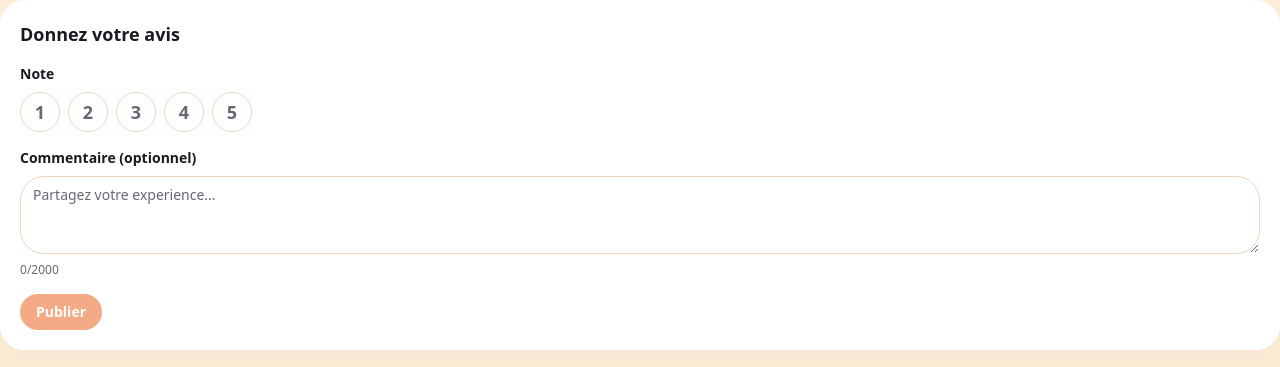
ReviewForm › create mode › shows loading state during submission
This screenshot has width=1280, height=367.
Click the button named "4 etoiles" at [184, 112], box [164,92,204,132]
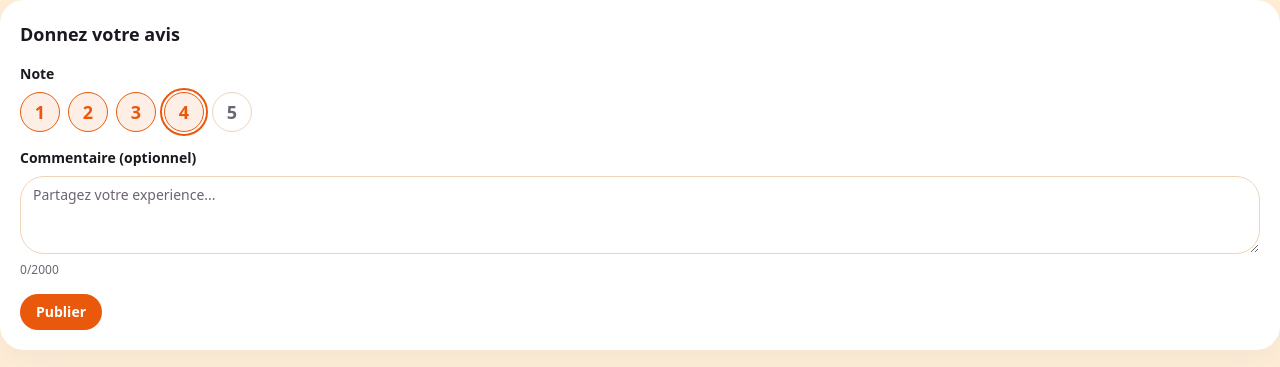
Click the button "Publier" at [61, 312], box [20,294,102,330]
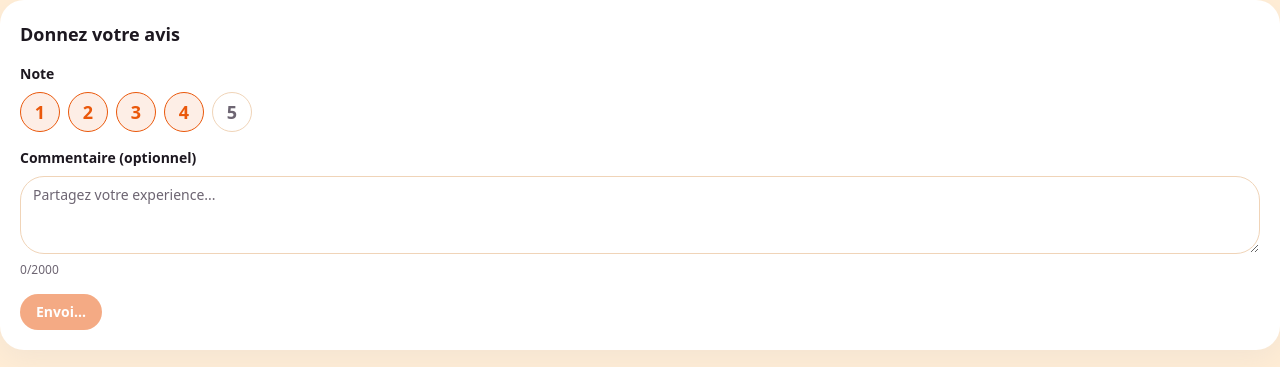
Expected: the button "Envoi..." is shown, [20,294,102,330]
